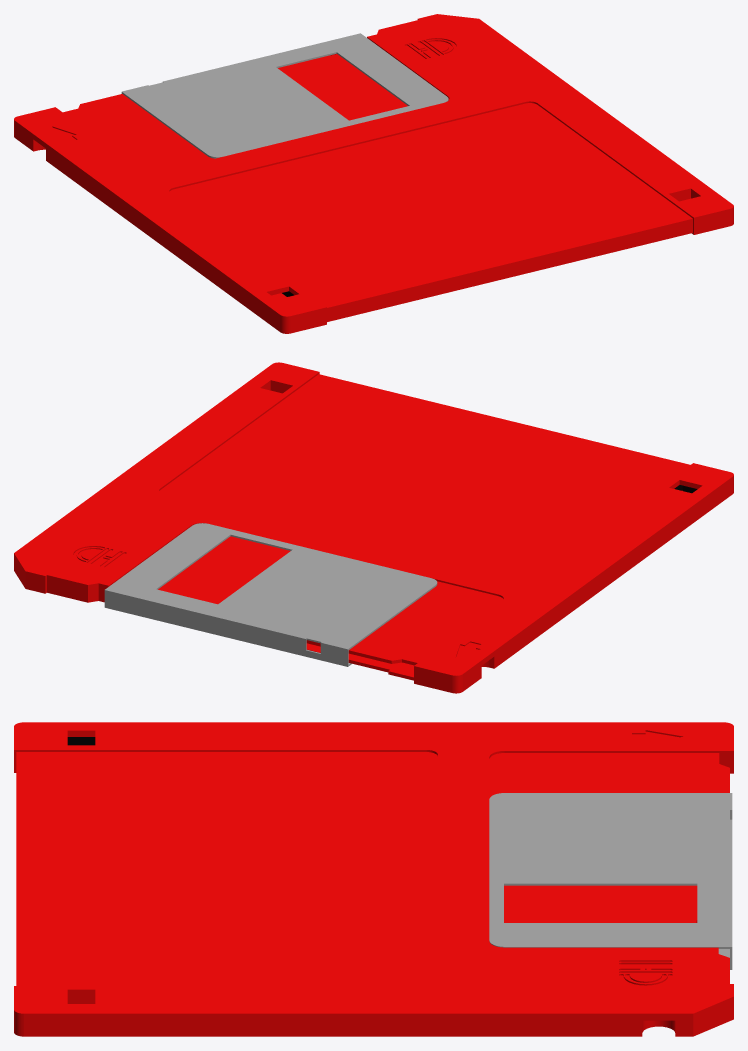
Rendered from disk_1.dae.
3 views of the same model, one above another, from view 1: azimuth 30°, elevation 25°; view 2: azimuth 150°, elevation 25°; view 3: azimuth 270°, elevation 25° (orthographic). The views are drawn at different scales.
Parts seen in each view (by area): view 1: group_1, group_0; view 2: group_1, group_0; view 3: group_1, group_0 (×2).
Boxes of the visible parts, box(x1,y1,x2,y2) form: group_1: box(14, 14, 733, 333); group_0: box(121, 33, 448, 158); group_1: box(14, 362, 733, 693); group_0: box(104, 523, 437, 666); group_1: box(14, 722, 733, 1036); group_0 (×2): box(489, 793, 732, 969).
Size of the model in its own units: 3.54 by 3.7 by 0.1299.
